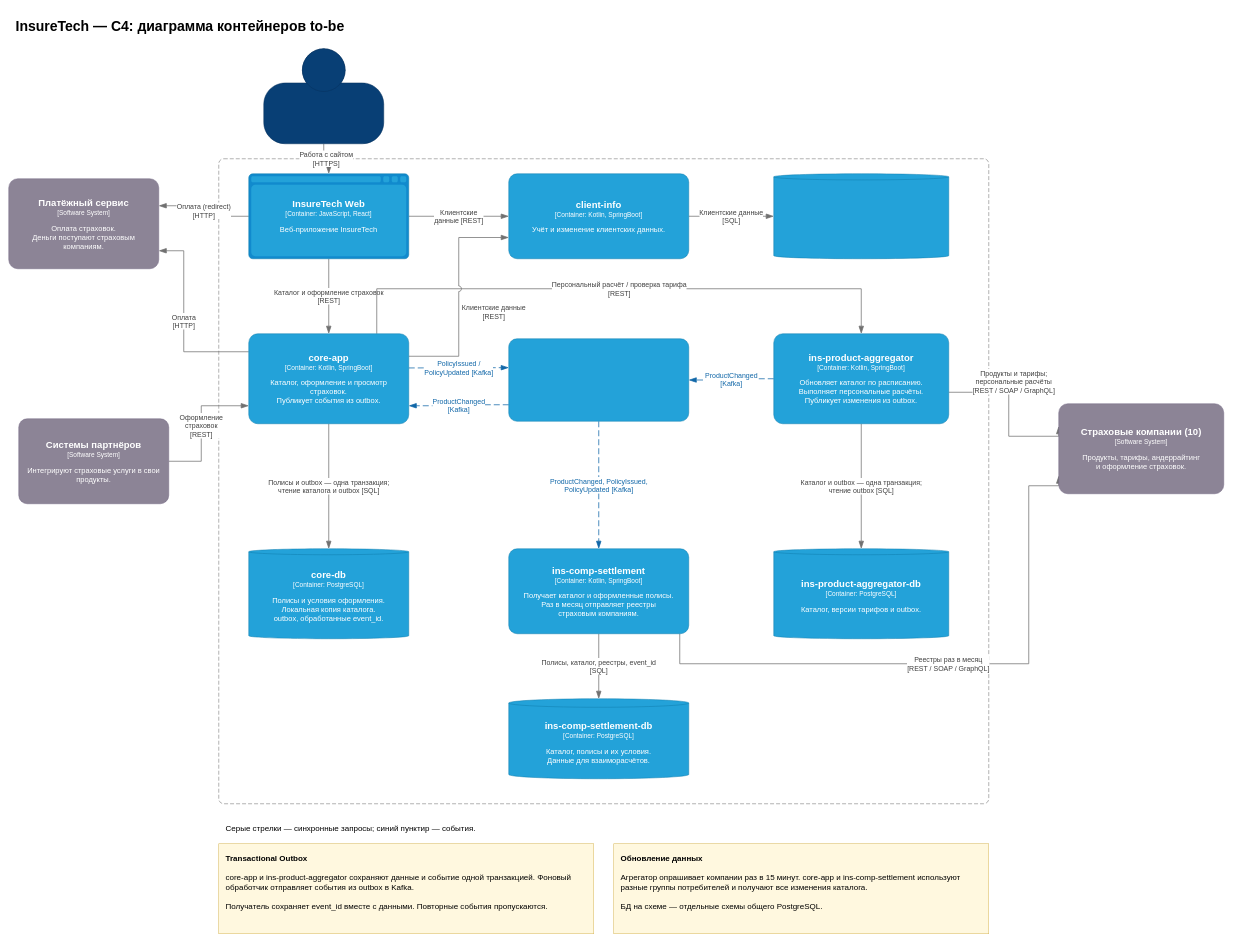
Image size: 1233x943. Some labels were removed from this diagram. The box of each missing label's shape, as (x1, y1, x2, y2) in pixels:
client-info-db [Container: PostgreSQL] ФИО, контакты, документы клиентов.: (773, 173, 949, 259)
InsureTech [Software System]: (218, 158, 989, 804)
Клиент [Person] Просмотр и оформление страховок: (263, 48, 384, 144)
Потоки событий [Container: Apache Kafka] product-updates policy-events: (508, 338, 689, 421)
